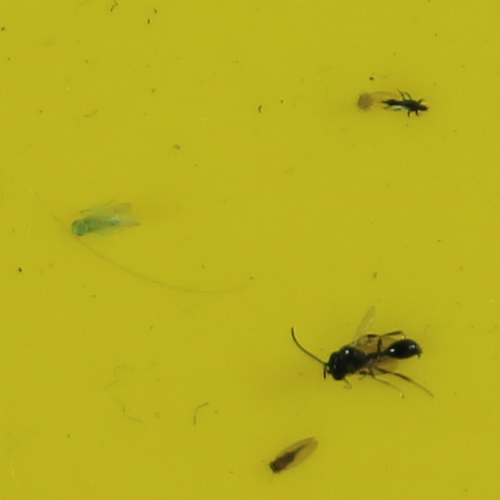psylla: (69, 203, 122, 241), (268, 443, 306, 474)
